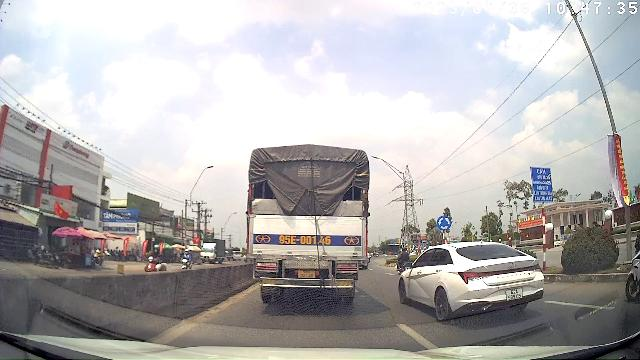303-noi-giao-nhau-chay-theo-vong-xuyen: (436, 216, 452, 231)
